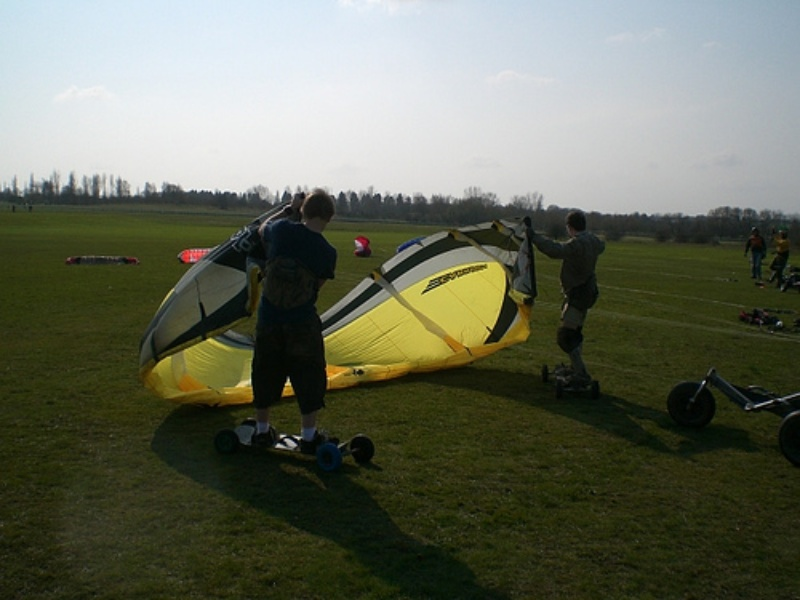person: (252, 191, 338, 449), (523, 210, 606, 387), (769, 228, 792, 288), (745, 226, 767, 283)
